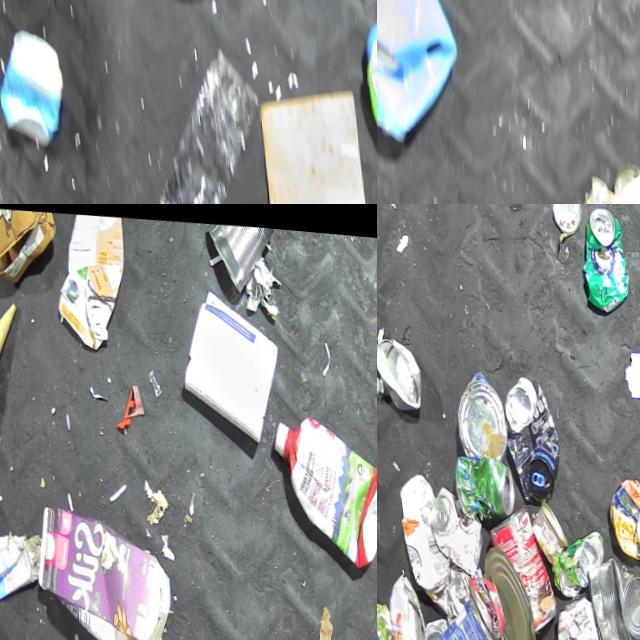can: (485, 498, 554, 629), (499, 368, 558, 497), (581, 547, 640, 640), (478, 541, 532, 640), (205, 216, 277, 287), (427, 480, 482, 572), (579, 204, 628, 306), (452, 364, 505, 454), (453, 448, 513, 517), (424, 587, 502, 640), (548, 519, 602, 593), (377, 328, 420, 406), (604, 467, 640, 554), (550, 586, 606, 640), (384, 568, 422, 640), (527, 494, 565, 558), (418, 611, 445, 640), (549, 204, 580, 227)
non_white_jug: (31, 497, 168, 640), (270, 402, 377, 561), (377, 0, 458, 142), (53, 207, 129, 350)
